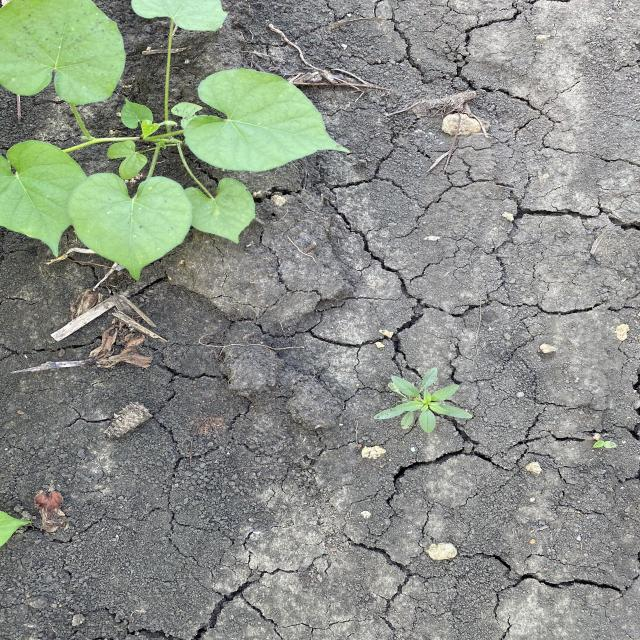MorningGlory: (0, 0, 351, 281)
Waterhemp: (372, 366, 475, 436)
